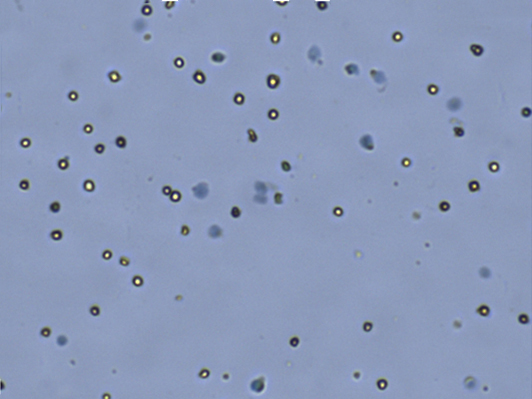A: (265, 72, 281, 90), (190, 65, 204, 84), (106, 67, 122, 82), (57, 156, 72, 172), (176, 222, 192, 237), (469, 41, 485, 56), (140, 3, 155, 18), (286, 334, 301, 349), (476, 301, 491, 316), (435, 199, 451, 213), (81, 176, 95, 191), (170, 55, 184, 70), (230, 90, 244, 105), (267, 30, 281, 45), (266, 105, 280, 120), (100, 247, 114, 262), (87, 301, 101, 316), (373, 376, 387, 391), (167, 188, 181, 202), (18, 176, 31, 191), (131, 271, 144, 286), (197, 365, 210, 380), (47, 229, 61, 242), (517, 312, 530, 326), (115, 134, 127, 149), (159, 1, 175, 12), (67, 90, 80, 103), (519, 105, 532, 118), (360, 320, 373, 333), (18, 135, 30, 149), (391, 30, 403, 44), (427, 82, 439, 96), (486, 159, 500, 171), (117, 254, 132, 265), (467, 178, 480, 190), (313, 1, 327, 12), (157, 182, 171, 193), (92, 143, 104, 155), (81, 122, 94, 133), (401, 156, 413, 167), (331, 205, 342, 216), (39, 325, 50, 336), (100, 391, 114, 399), (272, 1, 288, 7), (354, 249, 363, 259)
D: (303, 41, 325, 63), (191, 180, 211, 201), (357, 133, 377, 152), (247, 374, 267, 393), (367, 65, 387, 84), (444, 95, 463, 113), (340, 60, 360, 75), (208, 48, 227, 63), (205, 224, 222, 240), (476, 263, 492, 279), (244, 126, 257, 144), (272, 191, 286, 207), (462, 373, 478, 387), (227, 203, 241, 218), (278, 158, 292, 173), (450, 124, 463, 139), (140, 31, 154, 43), (54, 333, 68, 344), (48, 200, 60, 212), (352, 370, 362, 381), (481, 382, 491, 393), (219, 370, 228, 382), (1, 379, 5, 391)
